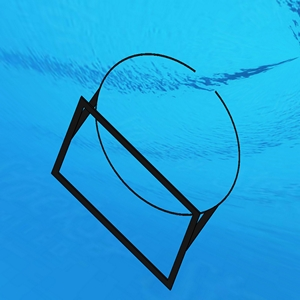circle: (48, 51, 243, 292)
